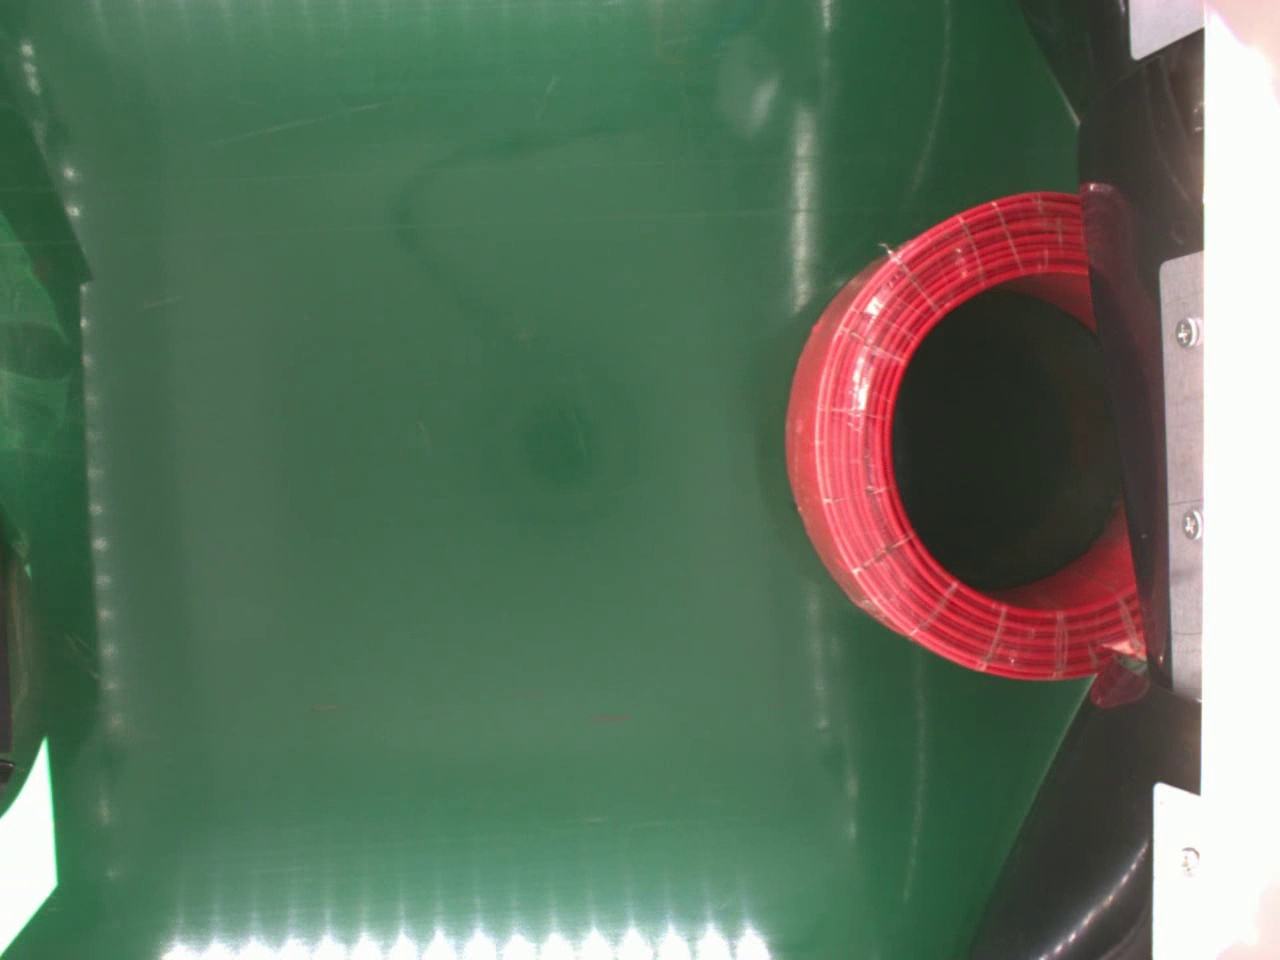red: (783, 186, 1159, 686)
